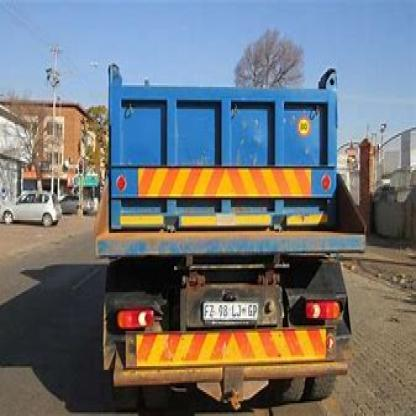dump_truck: (93, 43, 356, 400)
